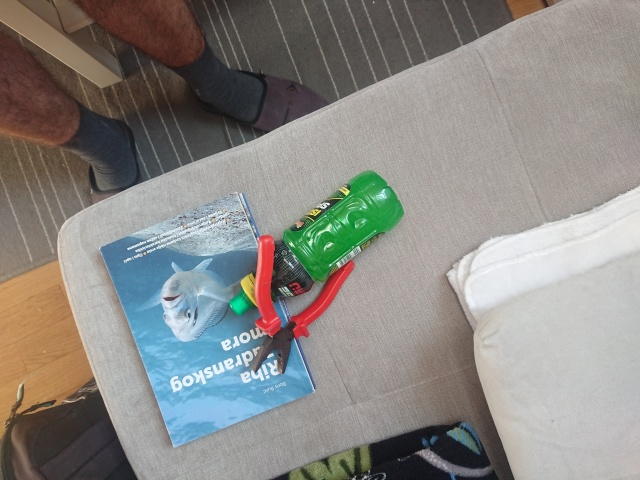Vindi Iso Sport Lemon-Grapefruit 500mL: (226, 167, 407, 318)
